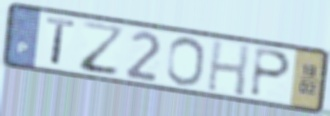2: (125, 29, 164, 85)
H: (205, 37, 253, 99)
O: (165, 36, 206, 89)
P: (248, 45, 293, 100)
T: (45, 15, 78, 68)
Z: (79, 19, 127, 78)
